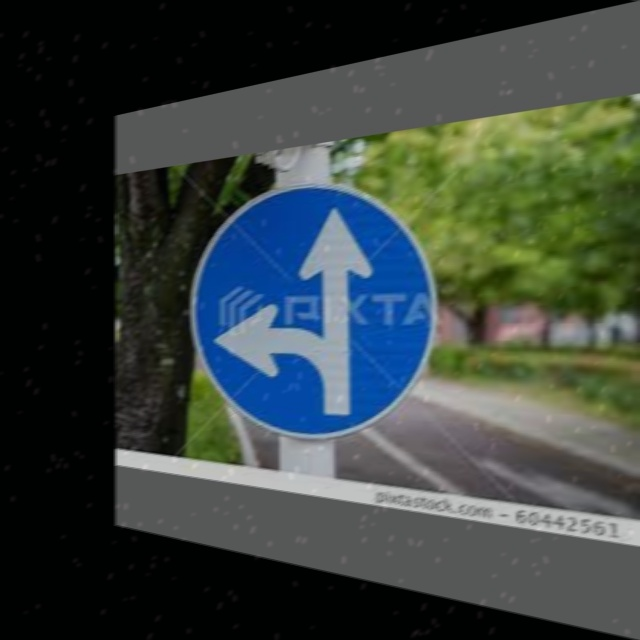Compulsory_Ahead_or_Turn_Left: (190, 174, 439, 440)
